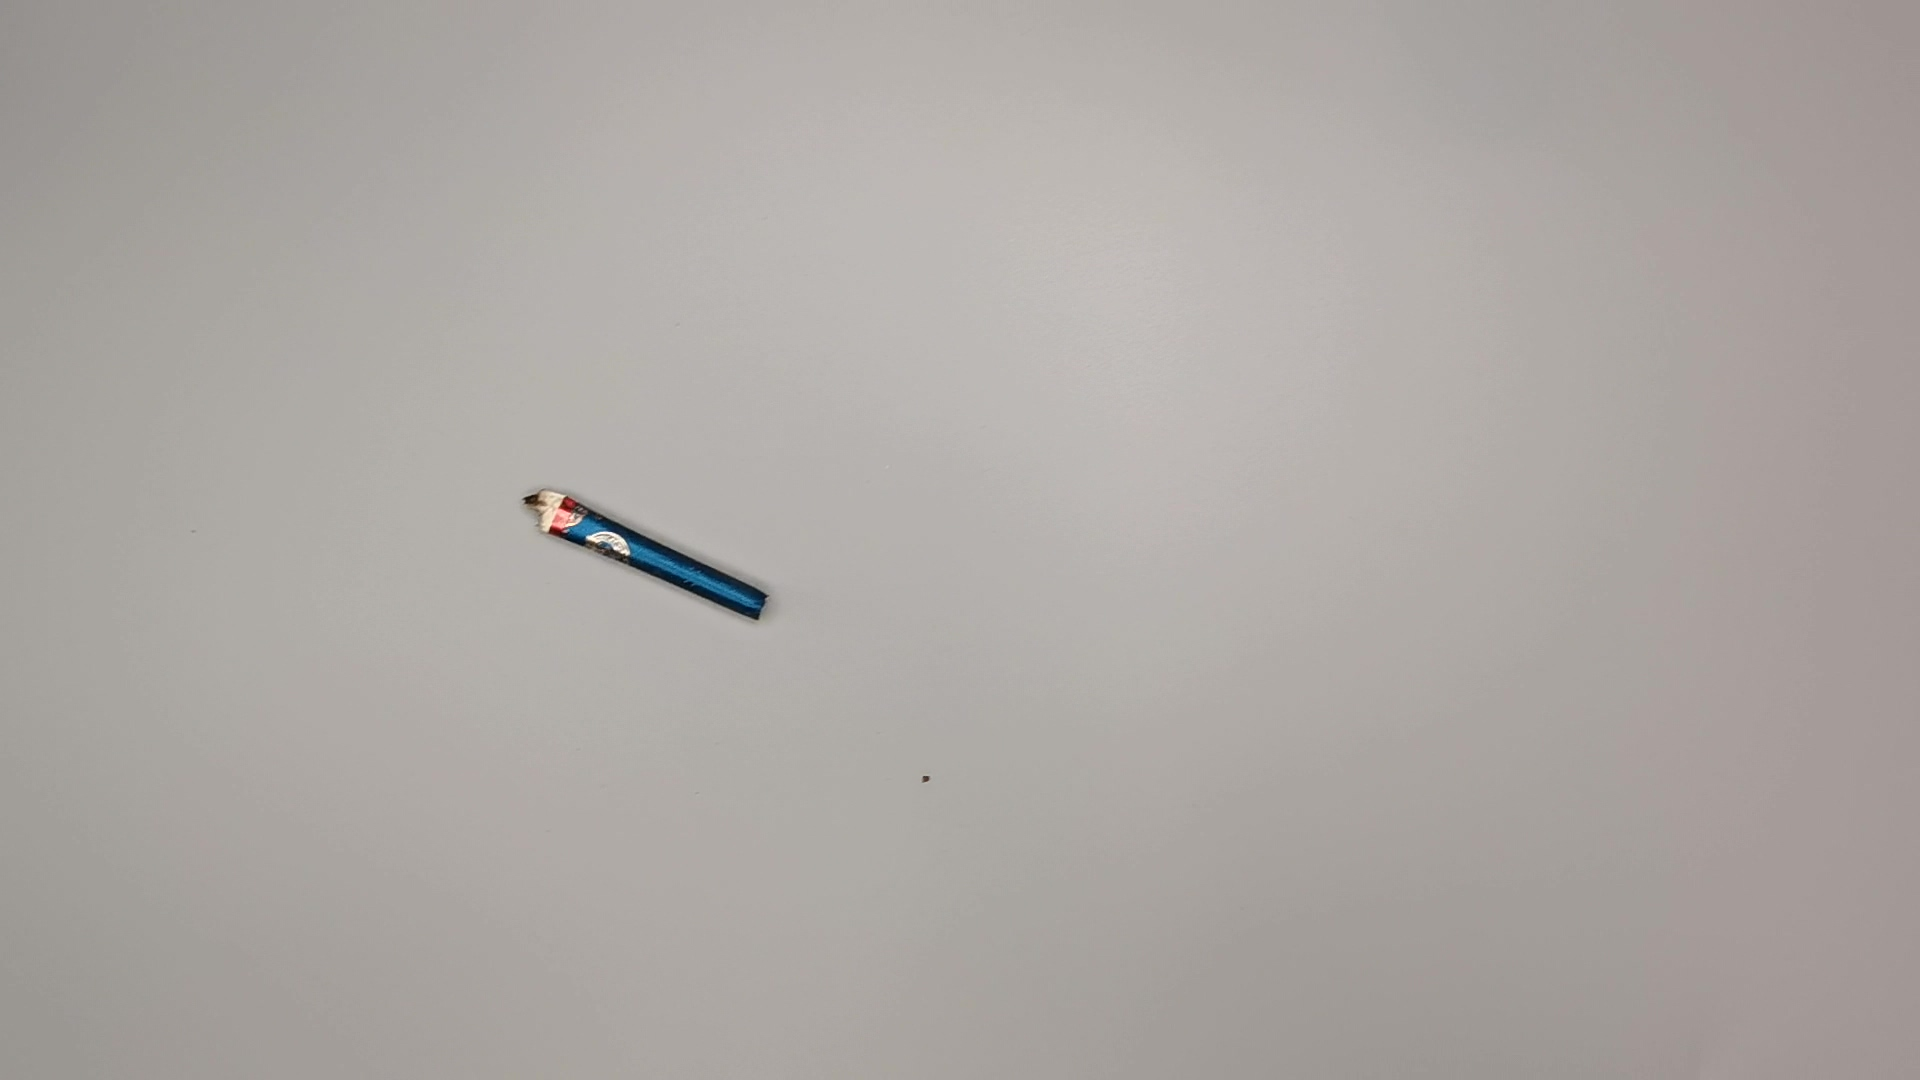cigarette: (520, 487, 778, 630)
